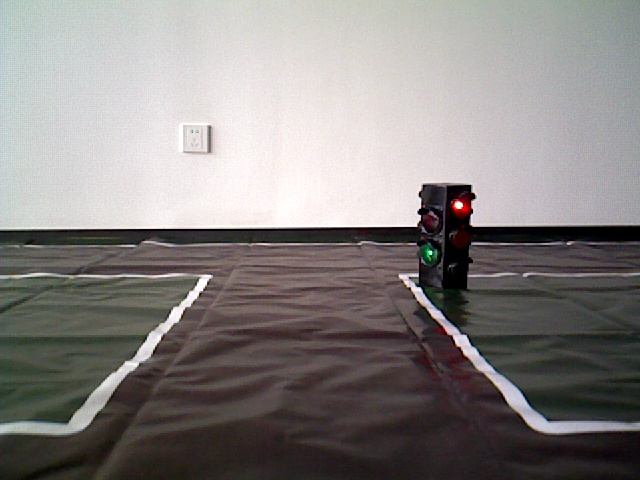red: (418, 187, 467, 293)
